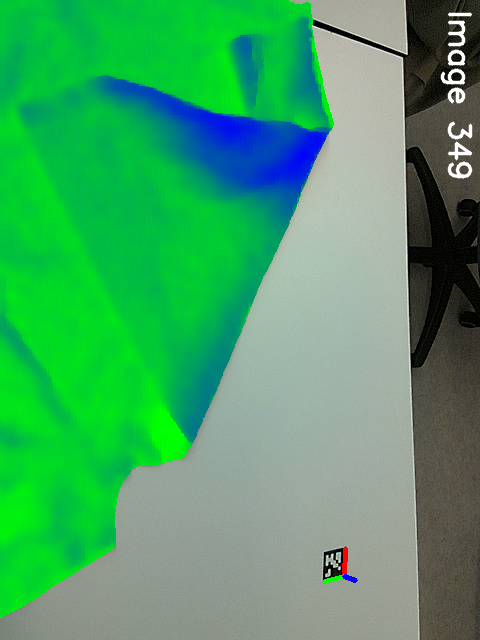V: (13, 88, 49, 128)
